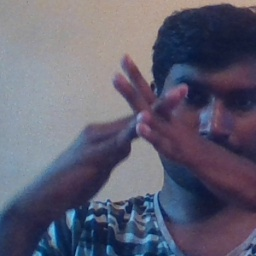W: (82, 47, 211, 179)
